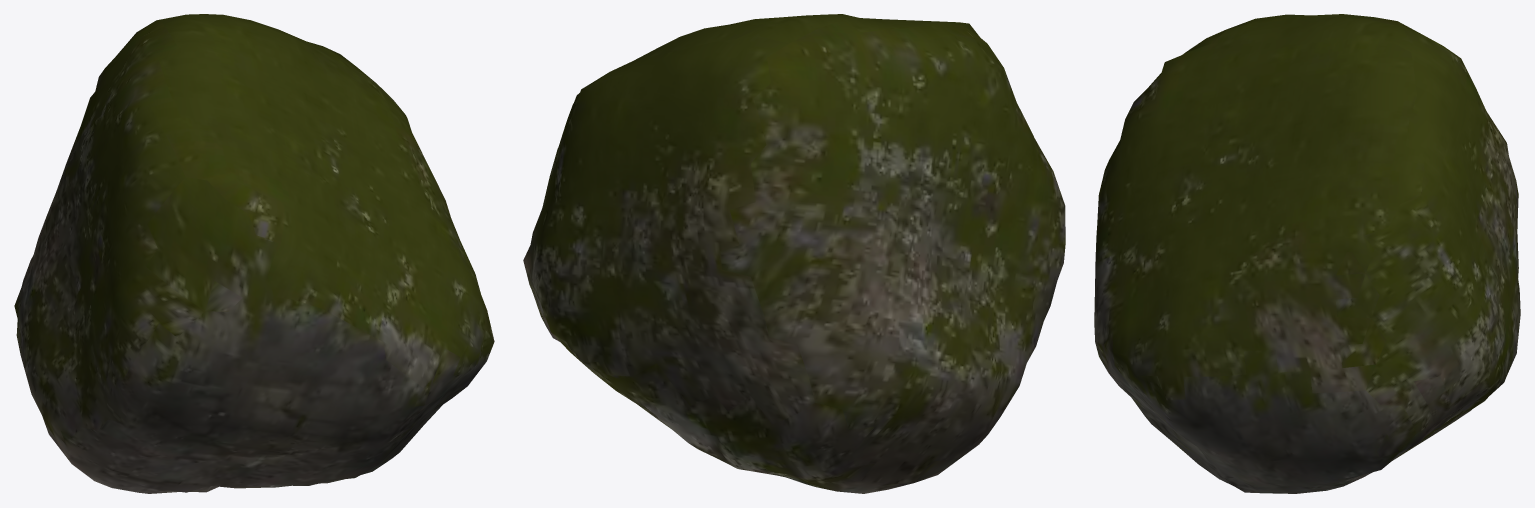
The model's file is rock1.glb.
3 renders of one model, left to right at view 1: azimuth 30°, elevation 25°; view 2: azimuth 150°, elevation 25°; view 3: azimuth 270°, elevation 25°, orthographic. The views are drawn at different scales.
Visible parts, largest first — view 1: A_Set; view 2: A_Set; view 3: A_Set.
Boxes of the visible parts, left/top/right/bottom form: A_Set: left=14, top=14, right=494, bottom=493; A_Set: left=523, top=14, right=1065, bottom=493; A_Set: left=1094, top=14, right=1520, bottom=493.
Bounding box in the file's own units: 5.46 × 5.41 × 5.04.
Materials: 1 (1 with a texture image).
